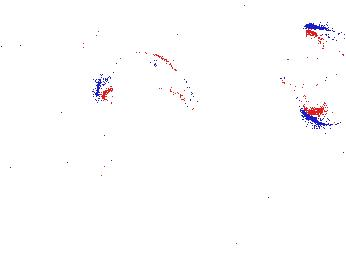moon jellyfish: (81, 1, 179, 90), (97, 50, 194, 118), (288, 25, 346, 126), (1, 4, 44, 86)
